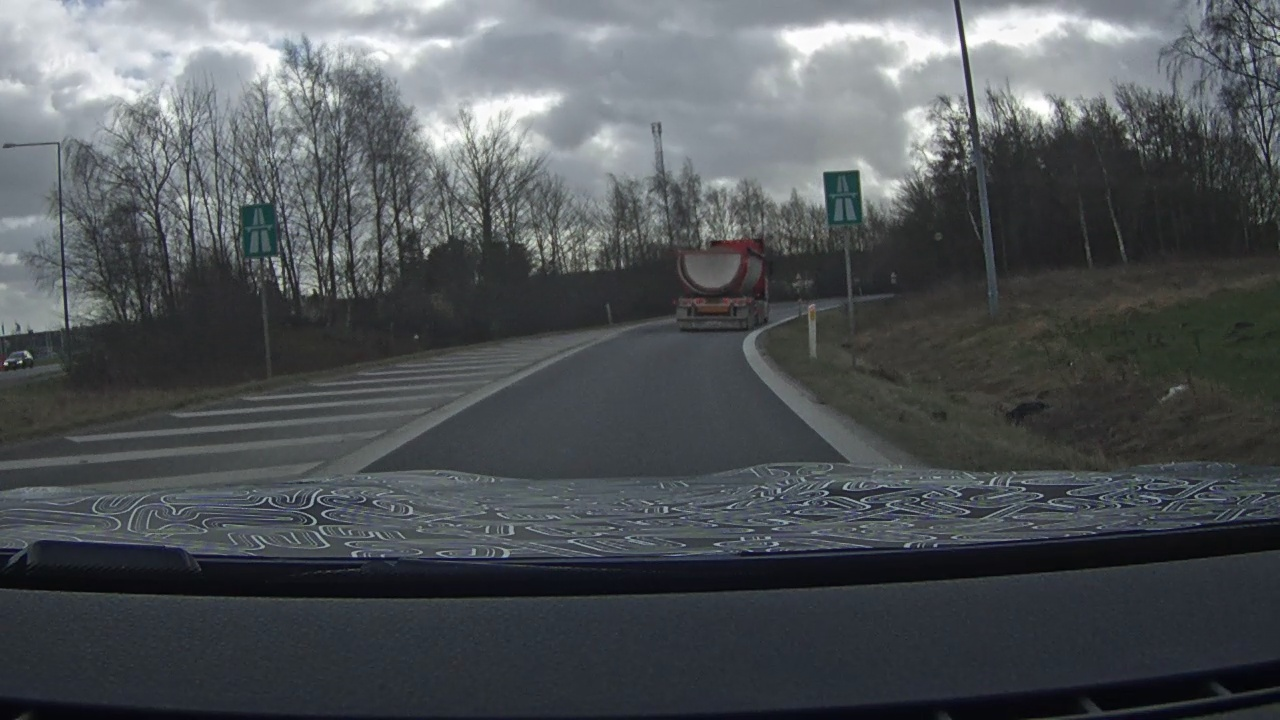Motorway_Begin: (823, 169, 863, 224), (240, 203, 278, 258)
